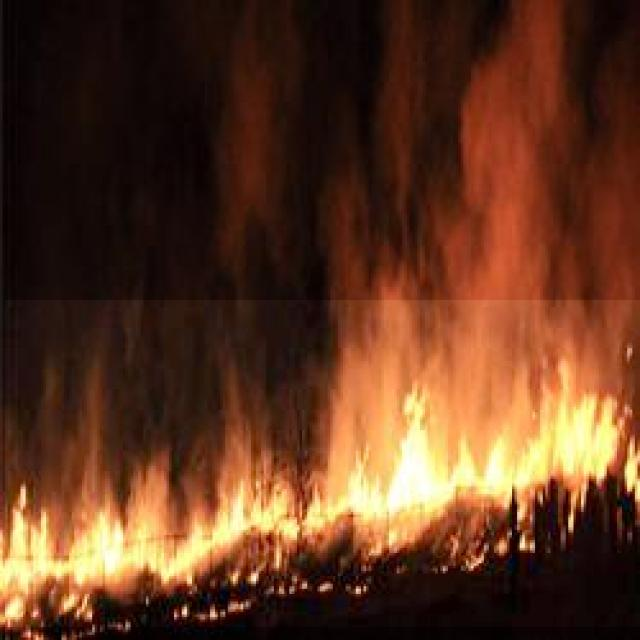Fire: (5, 300, 640, 627)
